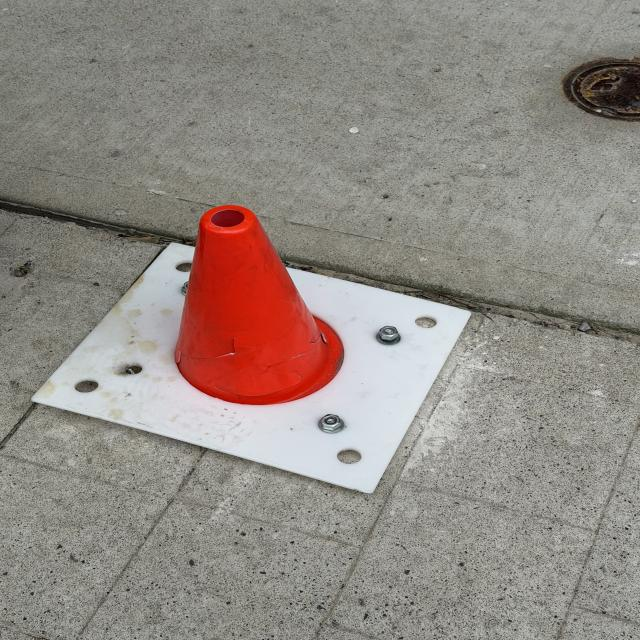Traffic Cone: (161, 208, 354, 415)
